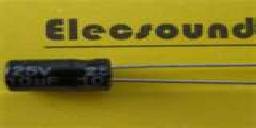Electrolytic-capacitor: (2, 57, 256, 100)
